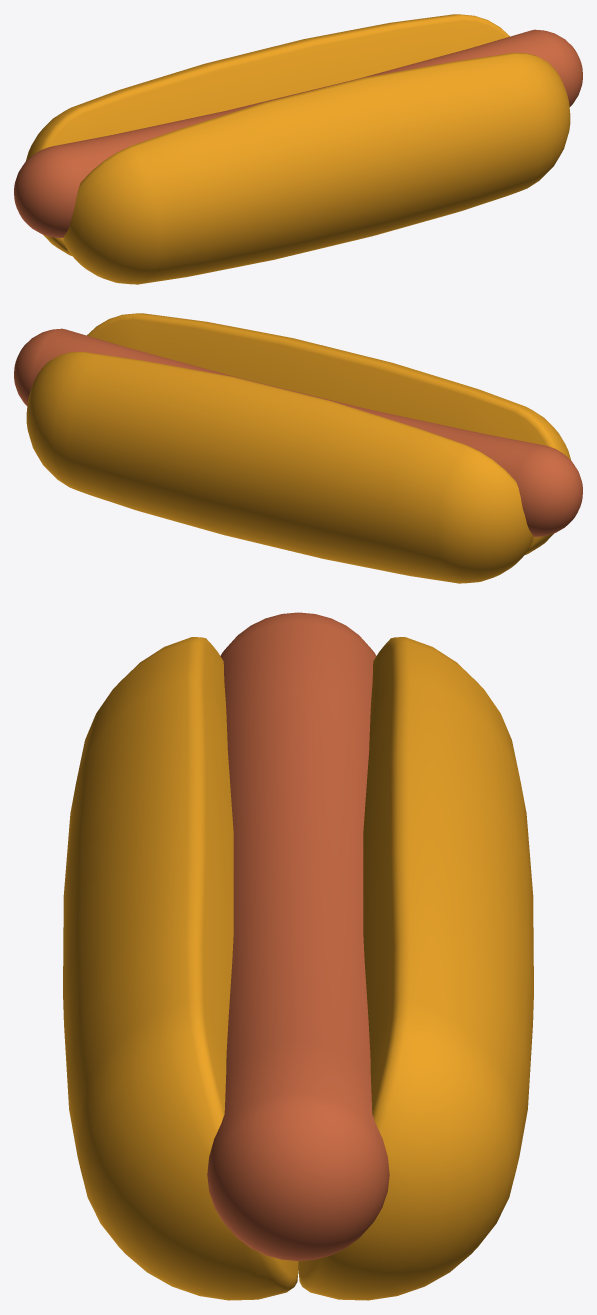
File: Comida_VR02.fbx
3 views of the same model, one above another, from view 1: azimuth 30°, elevation 25°; view 2: azimuth 150°, elevation 25°; view 3: azimuth 270°, elevation 25° (orthographic). The views are drawn at different scales.
Visible parts, largest first — view 1: Hot Dog; view 2: Hot Dog; view 3: Hot Dog.
Part boxes in pixels (bbox=[...]): Hot Dog: bbox=[14, 14, 582, 284]; Hot Dog: bbox=[14, 313, 582, 583]; Hot Dog: bbox=[63, 612, 533, 1300].
Bounding box in the file's own units: 296 × 81.51 × 108.
